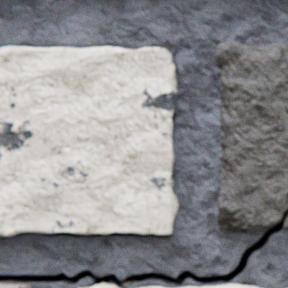brick: (0, 47, 178, 236), (182, 284, 259, 287), (0, 284, 32, 287), (91, 284, 119, 287), (142, 286, 164, 287)
broken_brick: (217, 42, 287, 228)
crack: (0, 215, 286, 287)
